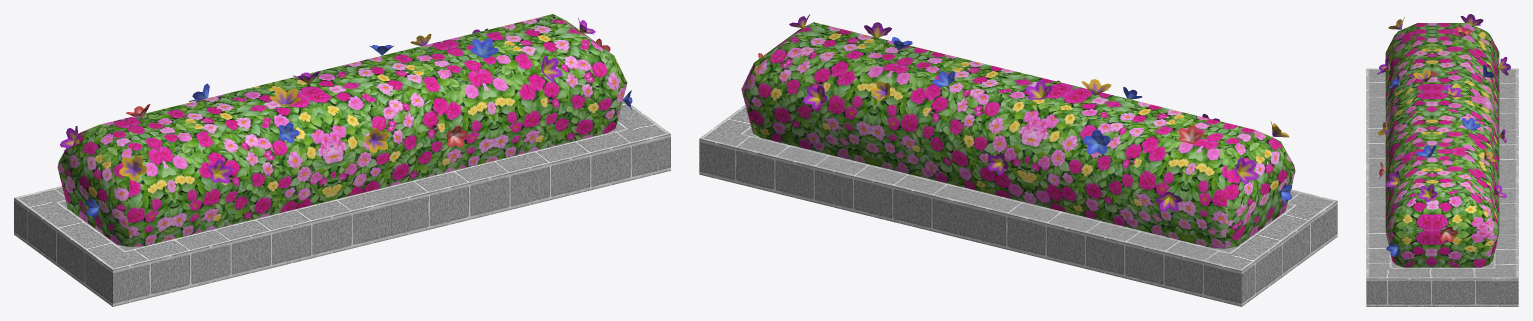
File: VEG0310040.fbx
3 views of the same model, side by side, from view 1: azimuth 30°, elevation 25°; view 2: azimuth 150°, elevation 25°; view 3: azimuth 270°, elevation 25° (orthographic). The views are drawn at different scales.
Visible parts, largest first — view 1: smVEG0310040; view 2: smVEG0310040; view 3: smVEG0310040.
Boxes of the visible parts, x1,y1,x2,y2 form: smVEG0310040: (14,14,670,306); smVEG0310040: (699,14,1337,306); smVEG0310040: (1366,14,1518,306).
Size of the model in its own units: 297 by 69.03 by 91.
1 material, 1 textured.
